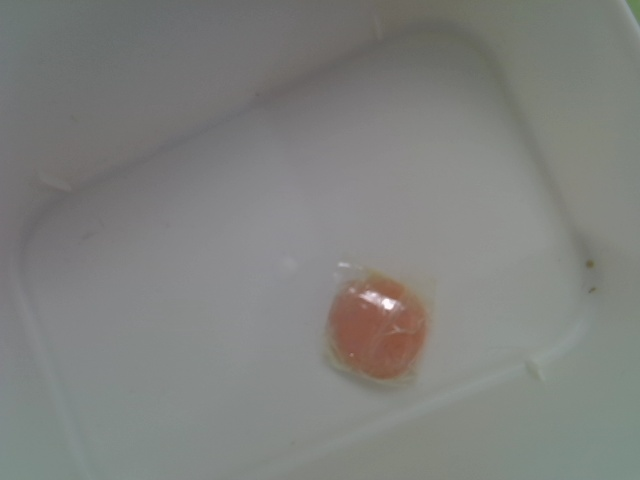씨앗: (324, 272, 432, 387)
